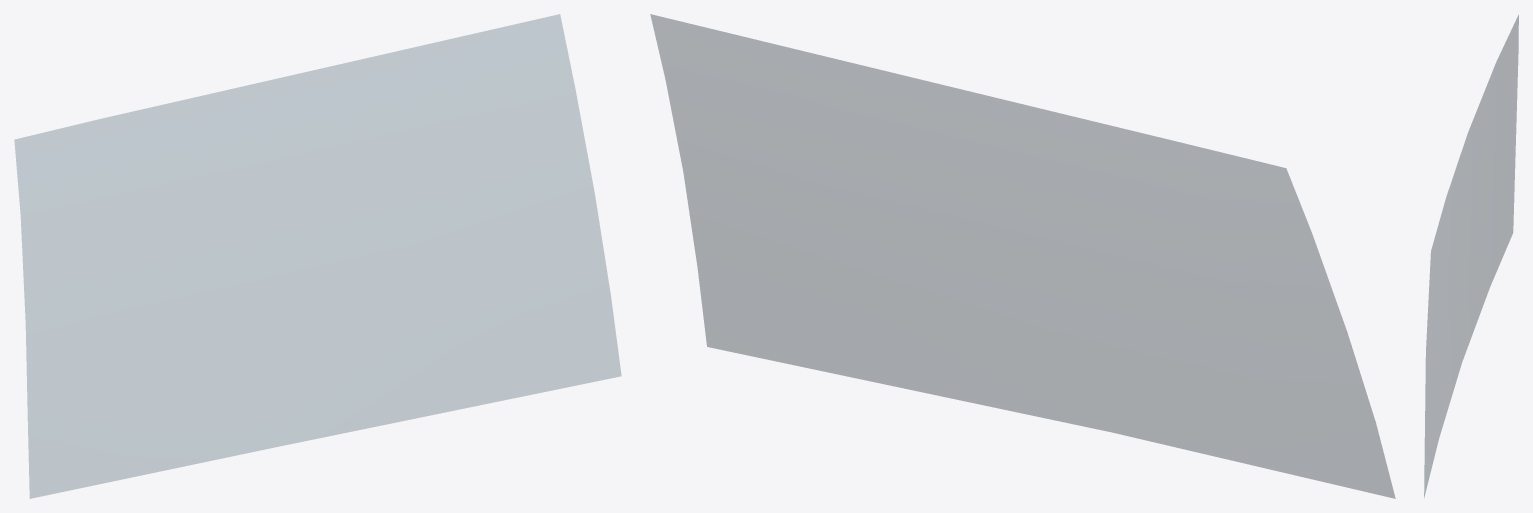
3 views of the same model, side by side, from view 1: azimuth 30°, elevation 25°; view 2: azimuth 150°, elevation 25°; view 3: azimuth 270°, elevation 25° (orthographic). The views are drawn at different scales.
Parts seen in each view (by area): view 1: SM_NissanPatrol_Door_RR_Glass_Int1; view 2: SM_NissanPatrol_Door_RR_Glass_Int1; view 3: SM_NissanPatrol_Door_RR_Glass_Int1.
Boxes of the visible parts, x1,y1,x2,y2 form: SM_NissanPatrol_Door_RR_Glass_Int1: (14, 14, 621, 498); SM_NissanPatrol_Door_RR_Glass_Int1: (650, 14, 1395, 498); SM_NissanPatrol_Door_RR_Glass_Int1: (1424, 15, 1518, 497).
Bounding box in the file's own units: 0.9371 × 0.4998 × 0.1609.
